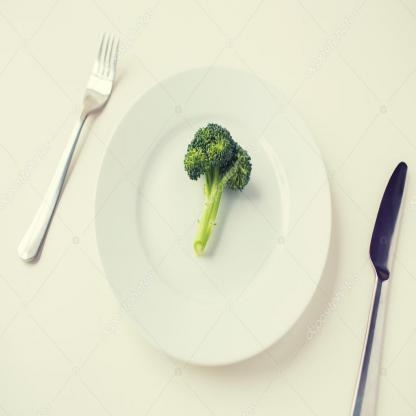broccoli: (184, 124, 252, 258)
